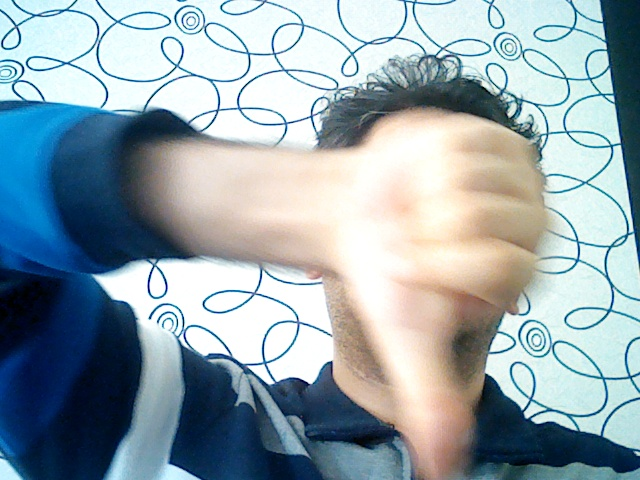ThumbsDown: (287, 110, 547, 480)
